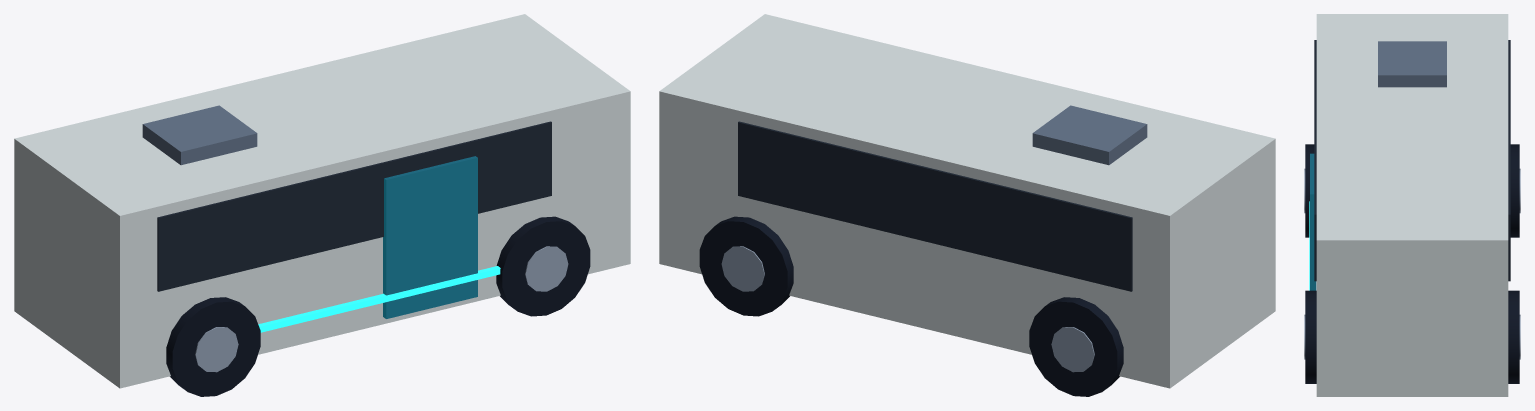
The model's file is transit_shuttle.glb.
The picture shows the model from 3 angles, left to right: view 1: azimuth 30°, elevation 25°; view 2: azimuth 150°, elevation 25°; view 3: azimuth 270°, elevation 25°; orthographic projection. The views are drawn at different scales.
Parts seen in each view (by area): view 1: transit_shuttle_body, transit_shuttle_glass_band, transit_shuttle_door, transit_shuttle_wheel_-1.55_0.88_tire, transit_shuttle_wheel_1.55_0.88_tire, transit_shuttle_roof_sensor, transit_shuttle_route_strip, transit_shuttle_wheel_1.55_0.88_hub, transit_shuttle_wheel_-1.55_0.88_hub; view 2: transit_shuttle_body, transit_shuttle_glass_band, transit_shuttle_wheel_-1.55_-0.88_tire, transit_shuttle_wheel_1.55_-0.88_tire, transit_shuttle_roof_sensor, transit_shuttle_wheel_1.55_-0.88_hub, transit_shuttle_wheel_-1.55_-0.88_hub; view 3: transit_shuttle_body, transit_shuttle_roof_sensor, transit_shuttle_glass_band, transit_shuttle_wheel_1.55_-0.88_tire, transit_shuttle_wheel_1.55_0.88_tire, transit_shuttle_wheel_-1.55_-0.88_tire, transit_shuttle_door, transit_shuttle_wheel_-1.55_0.88_tire.
Part boxes in pixels (<box>): transit_shuttle_body: <box>14,14,630,388</box>; transit_shuttle_glass_band: <box>157,121,551,291</box>; transit_shuttle_door: <box>383,156,477,318</box>; transit_shuttle_wheel_-1.55_0.88_tire: <box>166,297,260,396</box>; transit_shuttle_wheel_1.55_0.88_tire: <box>496,216,590,316</box>; transit_shuttle_roof_sensor: <box>142,105,257,165</box>; transit_shuttle_route_strip: <box>258,266,500,332</box>; transit_shuttle_wheel_1.55_0.88_hub: <box>525,246,568,291</box>; transit_shuttle_wheel_-1.55_0.88_hub: <box>195,327,238,372</box>; transit_shuttle_body: <box>659,14,1275,388</box>; transit_shuttle_glass_band: <box>738,121,1132,291</box>; transit_shuttle_wheel_-1.55_-0.88_tire: <box>1029,297,1123,396</box>; transit_shuttle_wheel_1.55_-0.88_tire: <box>699,216,793,316</box>; transit_shuttle_roof_sensor: <box>1032,105,1147,165</box>; transit_shuttle_wheel_1.55_-0.88_hub: <box>721,246,764,291</box>; transit_shuttle_wheel_-1.55_-0.88_hub: <box>1051,327,1094,372</box>; transit_shuttle_body: <box>1316,14,1508,396</box>; transit_shuttle_roof_sensor: <box>1378,41,1446,87</box>; transit_shuttle_glass_band: <box>1314,40,1510,281</box>; transit_shuttle_wheel_1.55_-0.88_tire: <box>1508,290,1519,383</box>; transit_shuttle_wheel_1.55_0.88_tire: <box>1305,290,1316,383</box>; transit_shuttle_wheel_-1.55_-0.88_tire: <box>1510,144,1519,237</box>; transit_shuttle_door: <box>1310,153,1316,290</box>; transit_shuttle_wheel_-1.55_0.88_tire: <box>1305,144,1314,237</box>.
Bounding box in the file's own units: 4.8 × 1.92 × 1.94.
